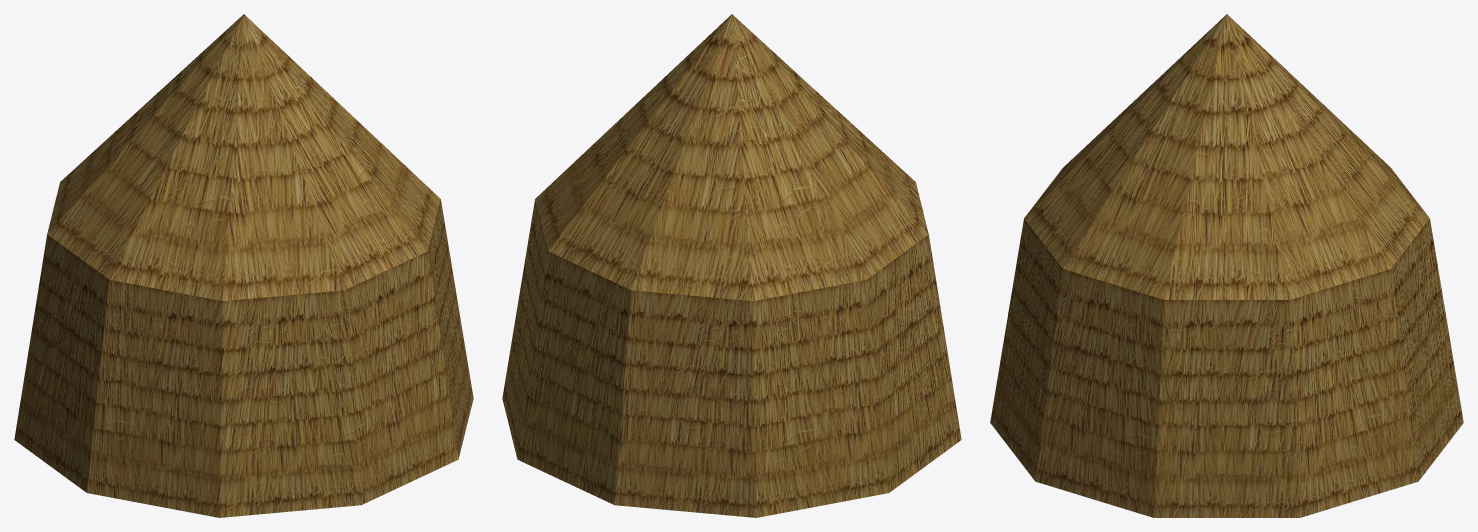
The model's file is haystack_01.glb.
3 renders of one model, left to right at view 1: azimuth 30°, elevation 25°; view 2: azimuth 150°, elevation 25°; view 3: azimuth 270°, elevation 25°, orthographic.
Parts seen in each view (by area): view 1: haystack_01; view 2: haystack_01; view 3: haystack_01.
Boxes of the visible parts, bbox=[...] form: haystack_01: bbox=[14, 14, 473, 517]; haystack_01: bbox=[502, 14, 961, 517]; haystack_01: bbox=[990, 14, 1463, 517].
Size of the model in its own units: 2 by 2 by 2.1.
Materials: 1 (1 with a texture image).
